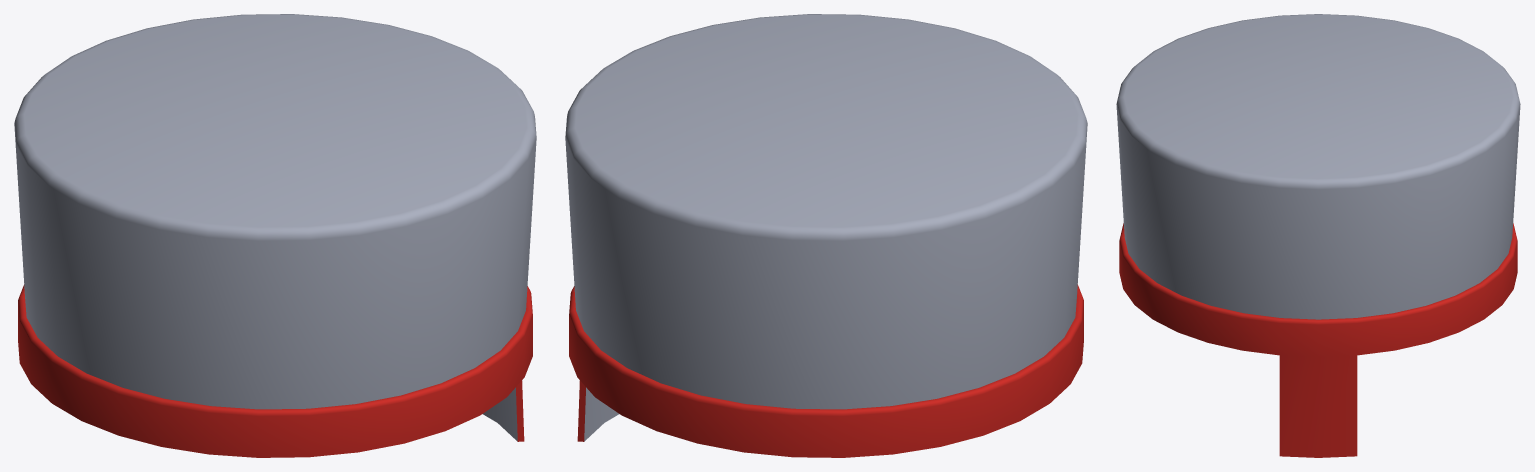
File: flat top nasal hjelm.fbx
3 views of the same model, side by side, from view 1: azimuth 30°, elevation 25°; view 2: azimuth 150°, elevation 25°; view 3: azimuth 270°, elevation 25° (orthographic). The views are drawn at different scales.
Visible parts, largest first — view 1: Flat Top nasal hjelm; view 2: Flat Top nasal hjelm; view 3: Flat Top nasal hjelm.
Boxes of the visible parts, <box> form: Flat Top nasal hjelm: <box>14,14,536,457</box>; Flat Top nasal hjelm: <box>565,14,1087,457</box>; Flat Top nasal hjelm: <box>1116,14,1520,457</box>.
Bounding box in the file's own units: 209 × 157 × 209.
